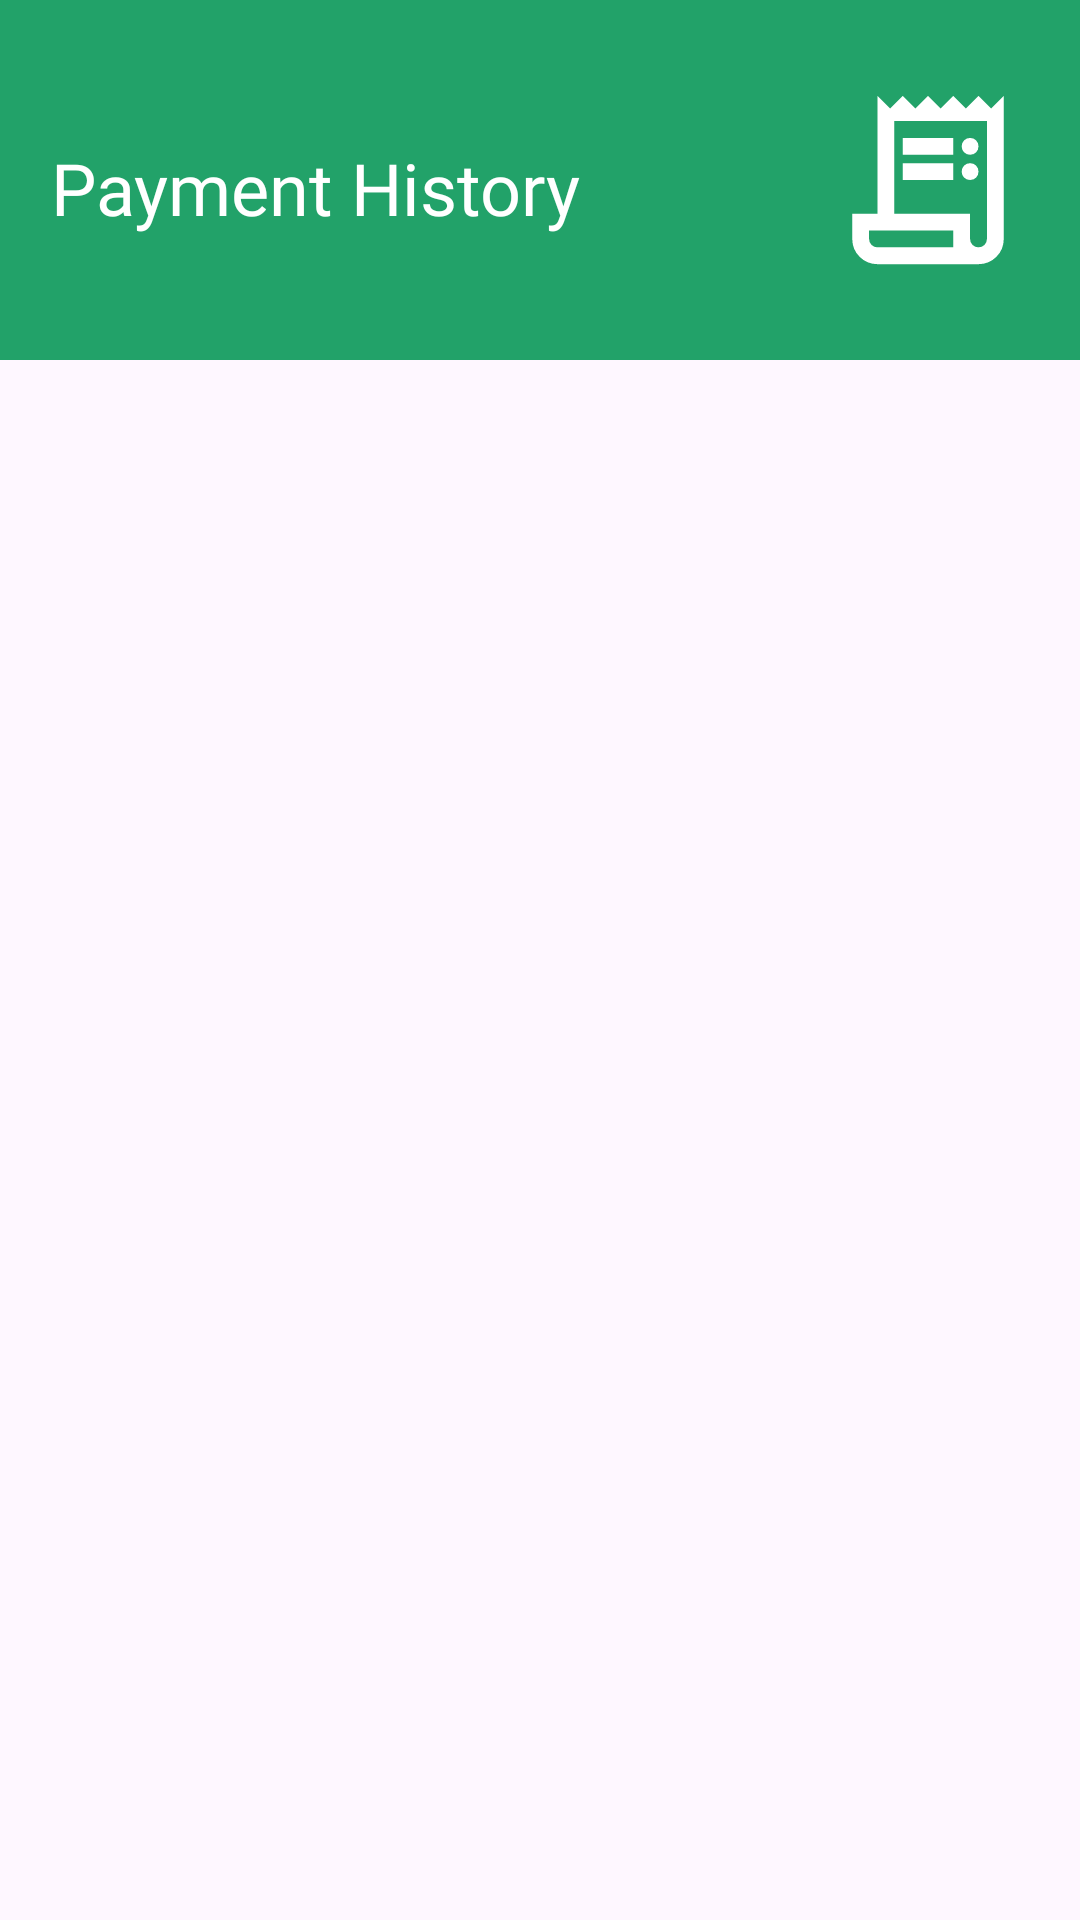

Named icons in this screenshot (1080px x 1920px) and their centers, (x=x, y=y):
receipt: (x=928, y=180)
